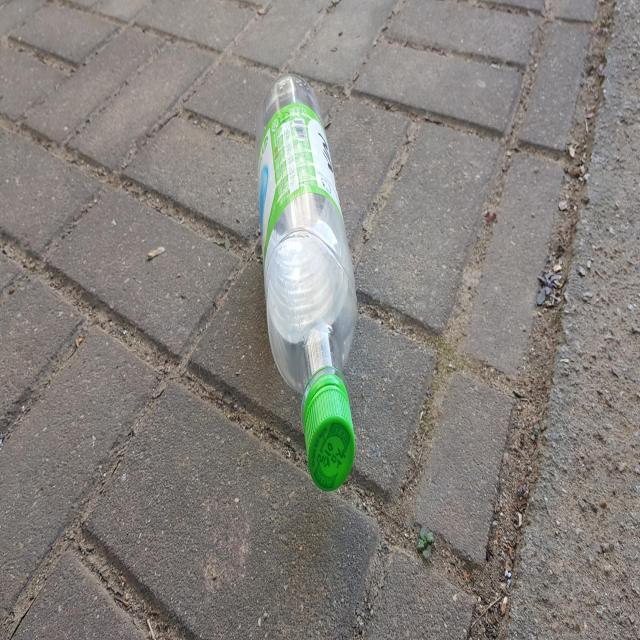plastic: (256, 73, 357, 490)
